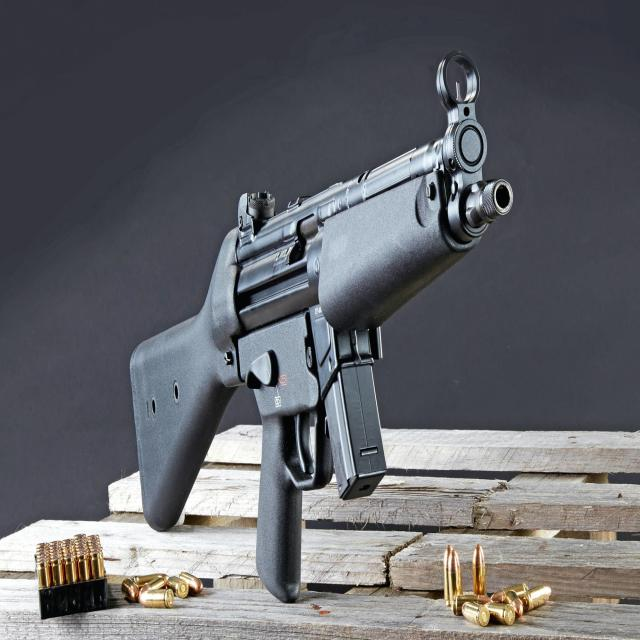SMG: (128, 54, 514, 605)
